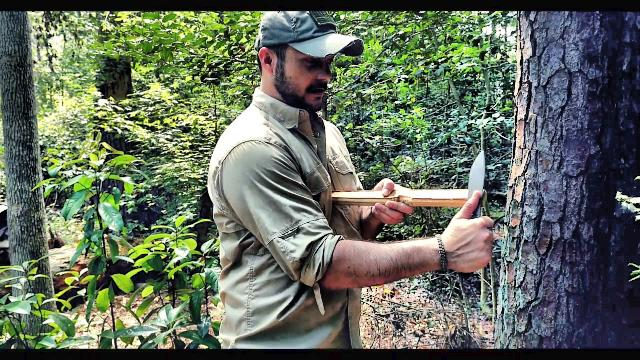knife: (453, 144, 502, 252)
